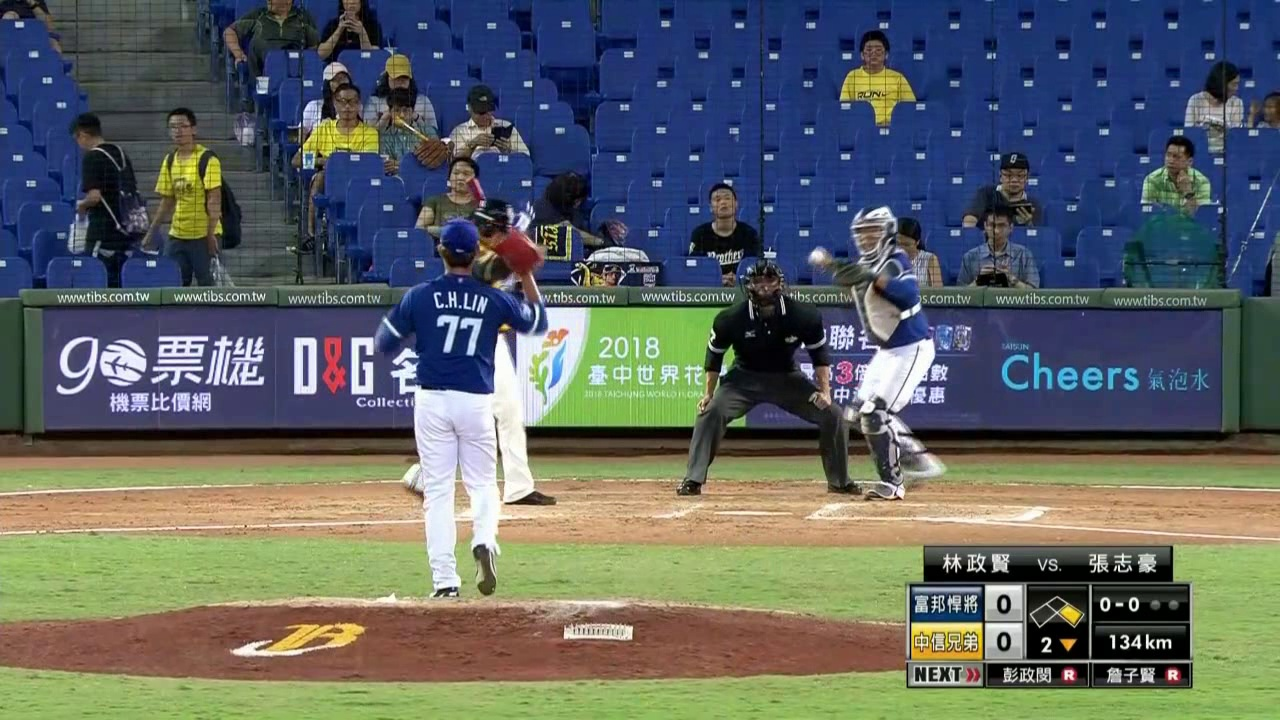ball: (805, 245, 828, 267)
base: (1029, 593, 1086, 628)
bat: (462, 172, 511, 248)
out: (1147, 588, 1186, 618)
score1: (986, 586, 1022, 619)
score2: (986, 623, 1019, 656)
session: (1031, 630, 1084, 658)
speed: (1093, 628, 1184, 658)
strikeball: (1091, 589, 1144, 617)
